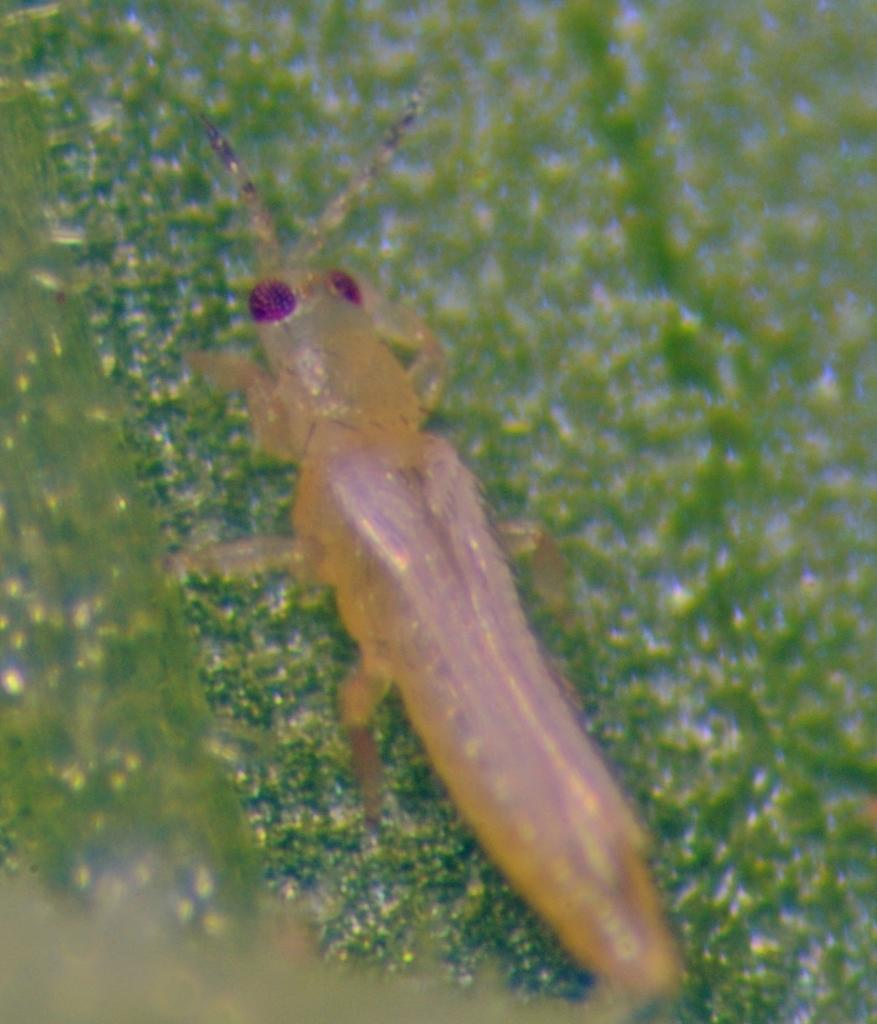tiny_pests: (103, 69, 827, 1024)
